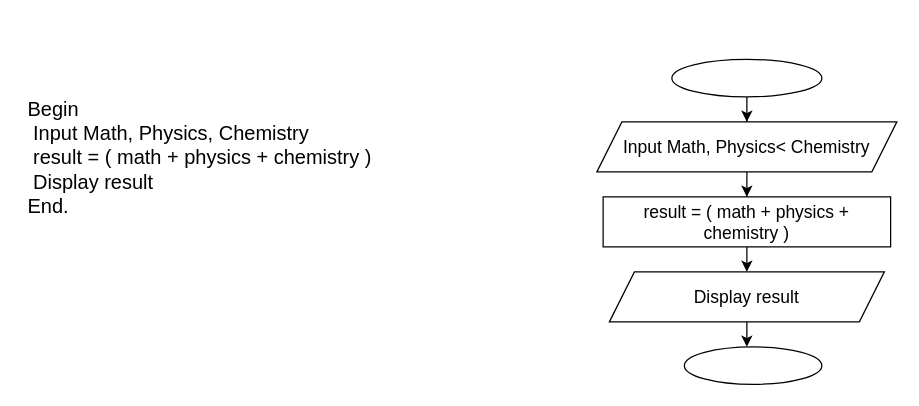
Image size: 919x406. Some labels were removed from this diagram. The shapes that lost their labels are listed below. From the top down, each one's centre as x and y in pixels, then its label:
(746,77): Begin
(752,365): End
